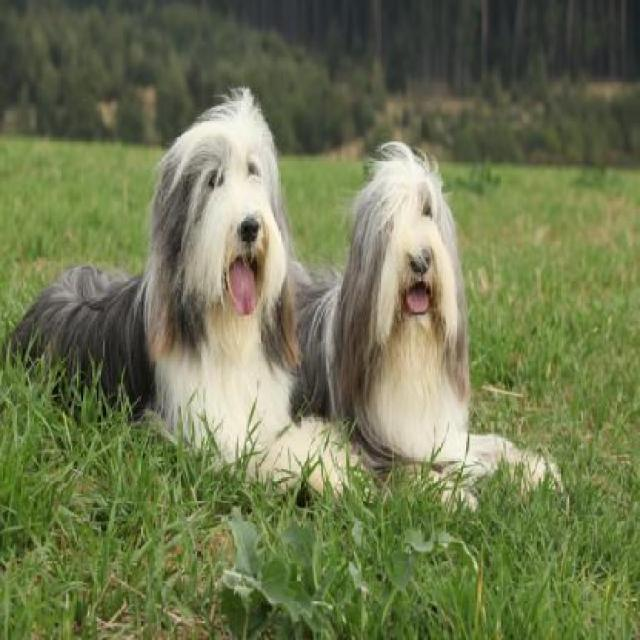animals: (13, 79, 324, 499), (304, 103, 511, 499)
